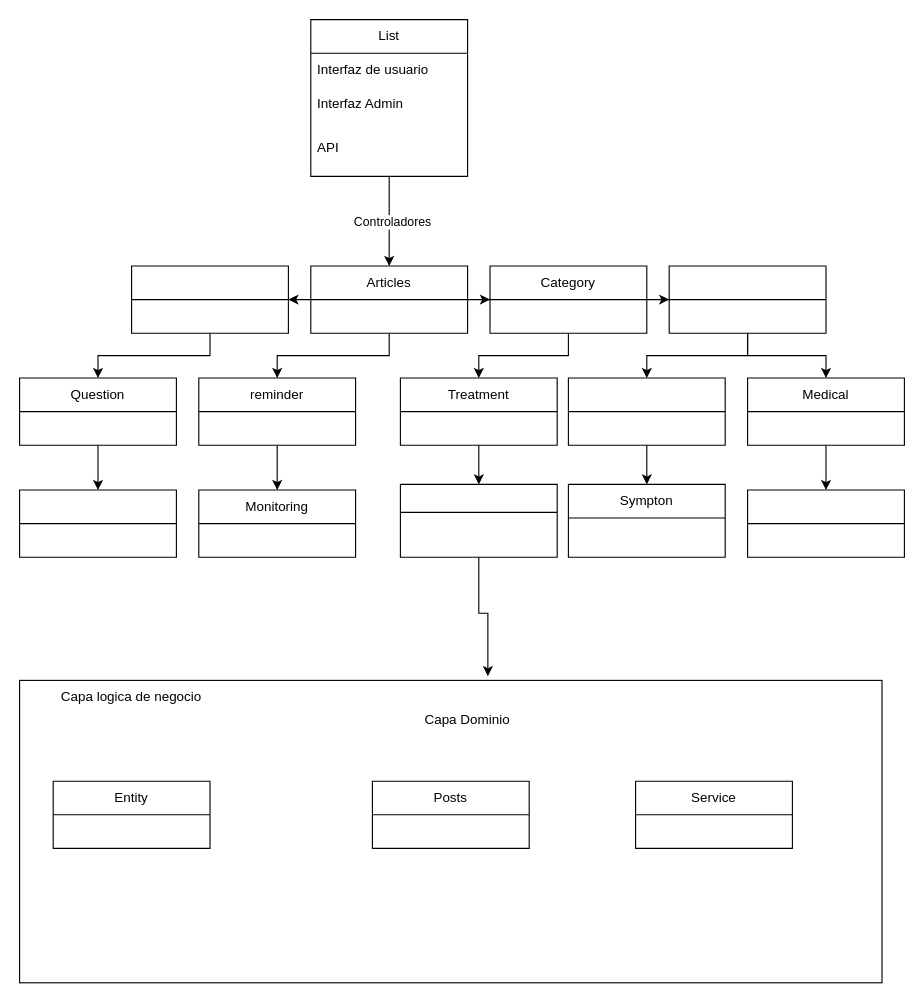
Image size: 924x1002. Some labels were removed from this diagram. The shapes that lost their labels are listed below. From the top down, each one's centre as x and y in pixels, then its label:
At (x=209, y=299): "Answer".
At (x=747, y=299): "Healthservice".
At (x=646, y=411): "Maps".
At (x=97, y=523): "MedicalRecord".
At (x=478, y=520): "Recipe".
At (x=825, y=523): "User".
